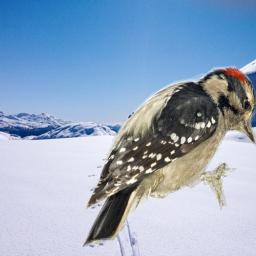Woodpecker: (67, 64, 256, 253)
